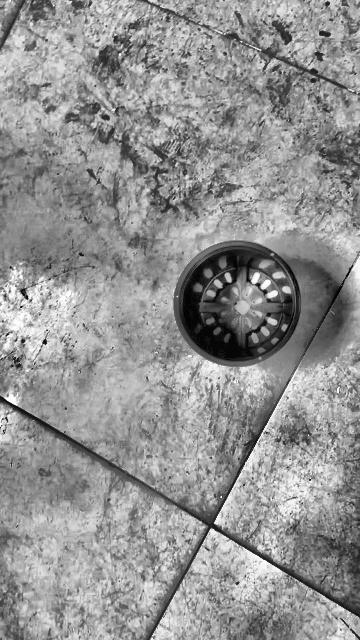pot: (173, 241, 300, 366)
